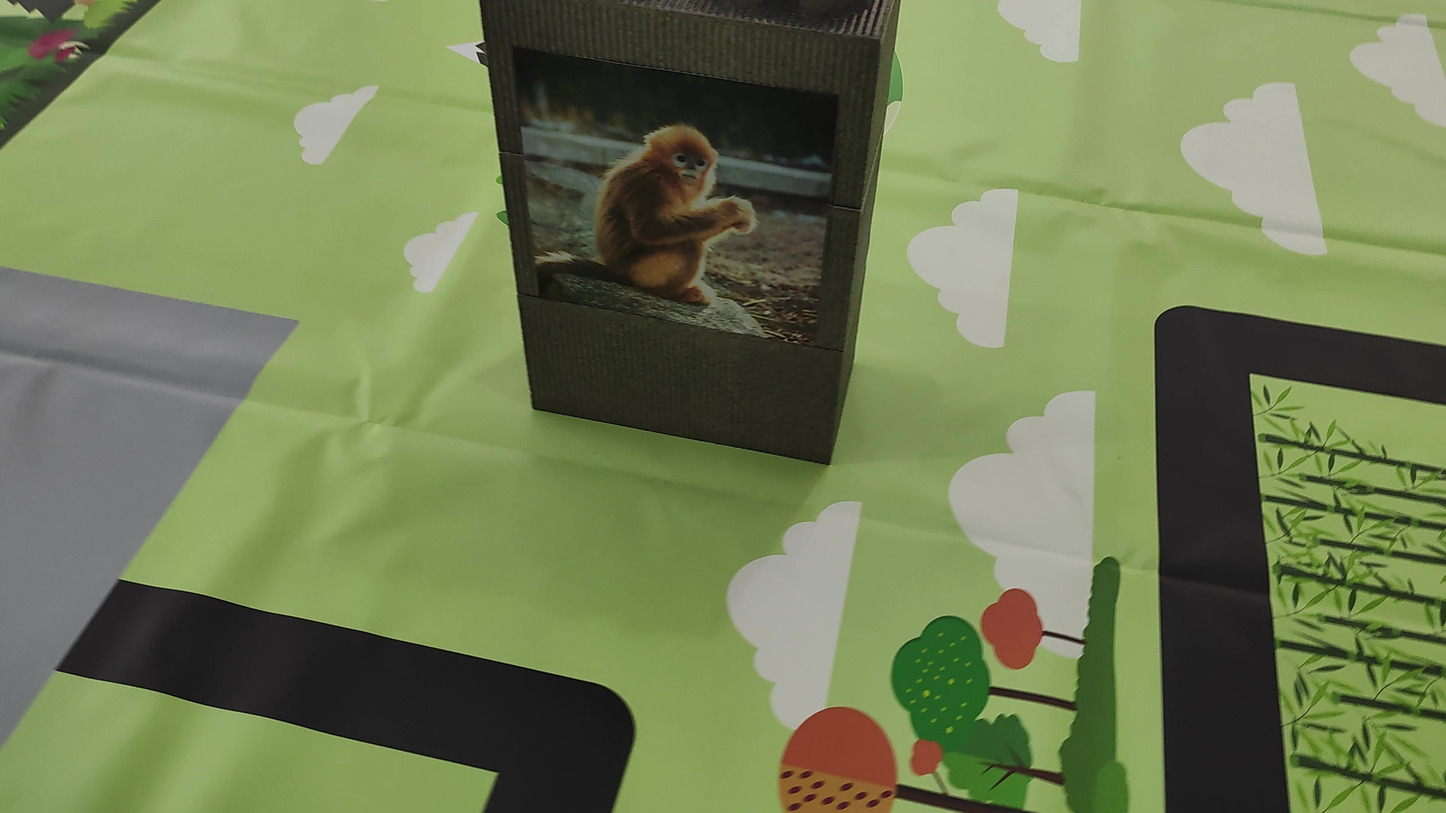monkey: (552, 107, 803, 322)
